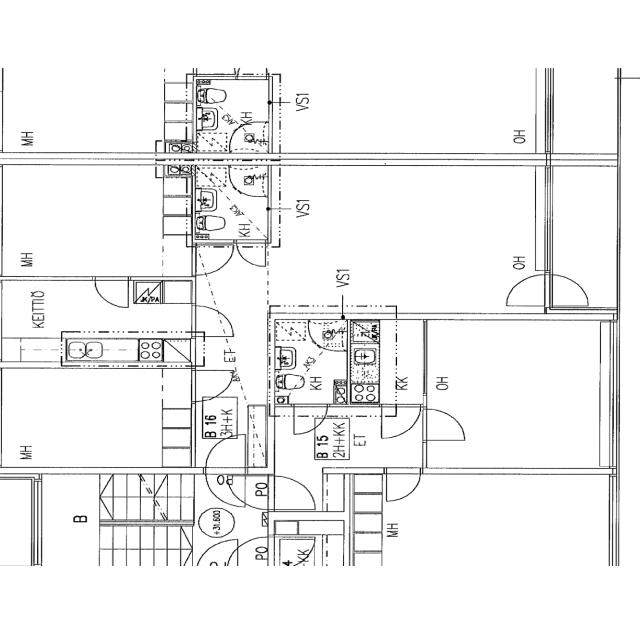door: (269, 473, 318, 512), (423, 405, 467, 442), (202, 435, 246, 472), (503, 271, 547, 308), (548, 271, 591, 308), (191, 368, 235, 402), (382, 468, 422, 504), (191, 302, 233, 336), (382, 406, 422, 440), (193, 242, 234, 275), (92, 276, 131, 310), (204, 473, 244, 506), (291, 404, 326, 436), (235, 240, 268, 268)
window: (236, 69, 268, 79)
zone: (427, 318, 610, 473), (0, 163, 185, 276), (0, 366, 195, 470), (4, 278, 196, 353), (548, 156, 621, 312), (274, 319, 348, 404), (194, 164, 268, 241), (195, 77, 269, 147), (0, 476, 36, 567), (349, 341, 380, 401)
